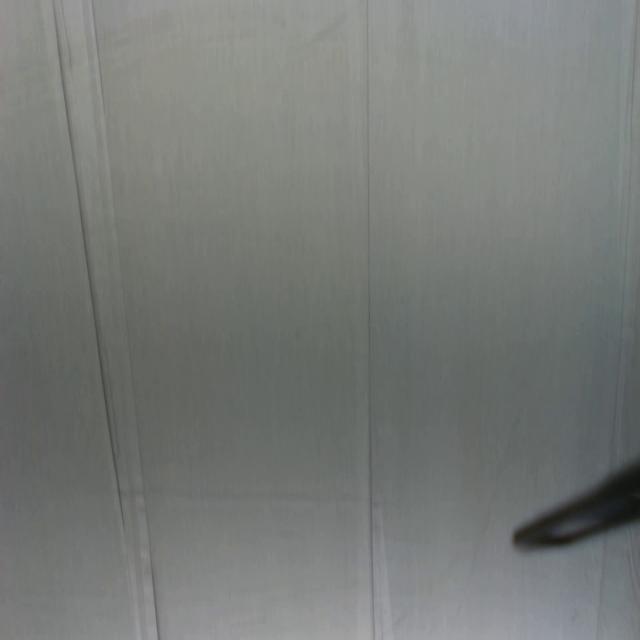crease: (41, 0, 162, 637), (608, 1, 640, 458), (362, 0, 381, 640), (595, 534, 611, 639)
